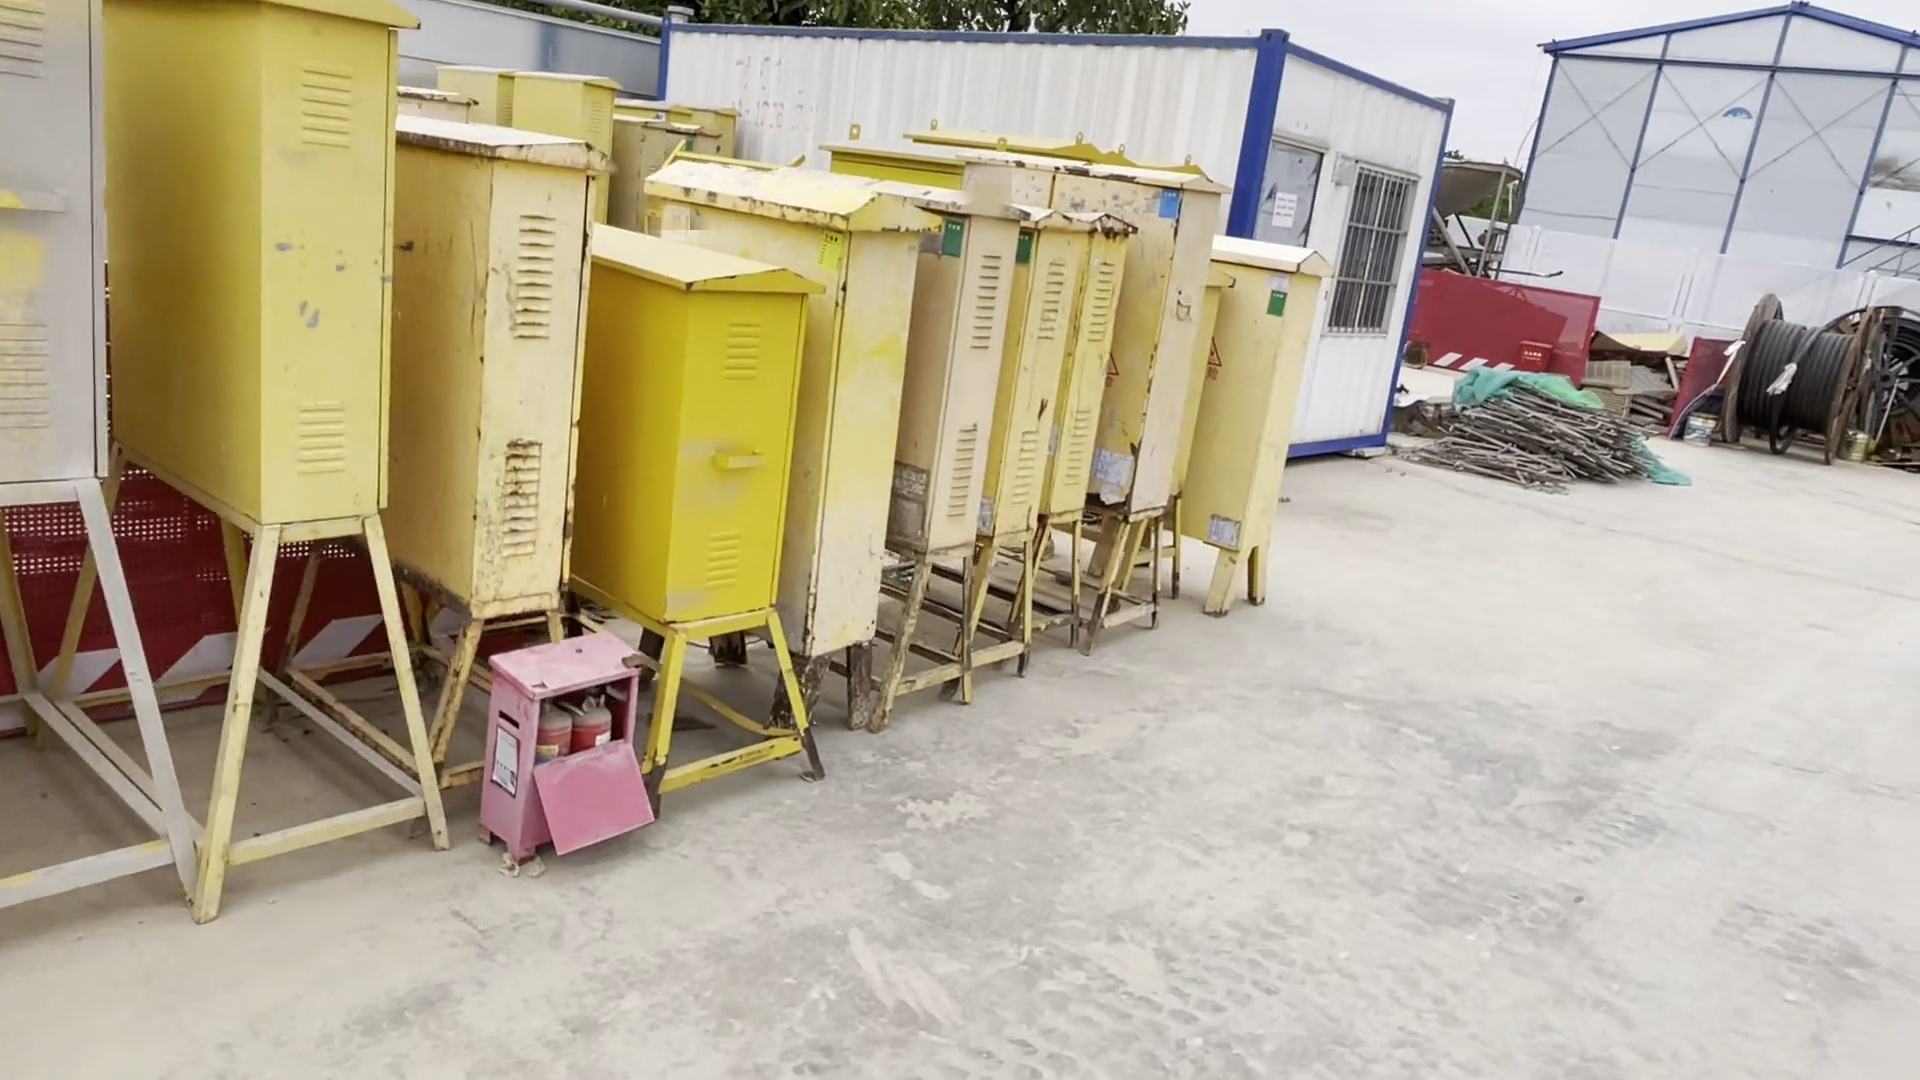ebox: (218, 16, 450, 901), (1, 15, 207, 905), (571, 220, 818, 793), (427, 127, 597, 814), (665, 175, 872, 723), (968, 138, 1189, 596), (1176, 235, 1364, 636), (847, 170, 975, 712), (997, 200, 1085, 679), (504, 73, 630, 137), (436, 63, 508, 127)
